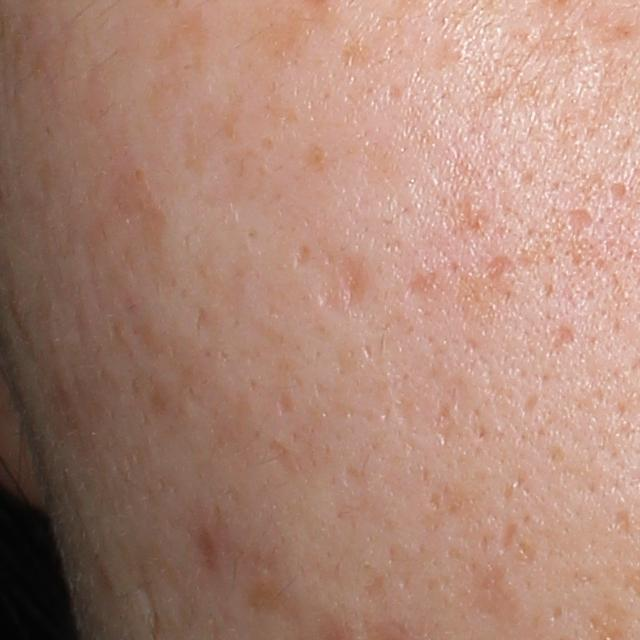atrophic_scar: (315, 243, 373, 314), (399, 272, 441, 309), (560, 203, 597, 241), (546, 321, 579, 357), (613, 508, 637, 542), (485, 256, 512, 280), (502, 523, 522, 554), (275, 389, 296, 417), (294, 243, 313, 271)
